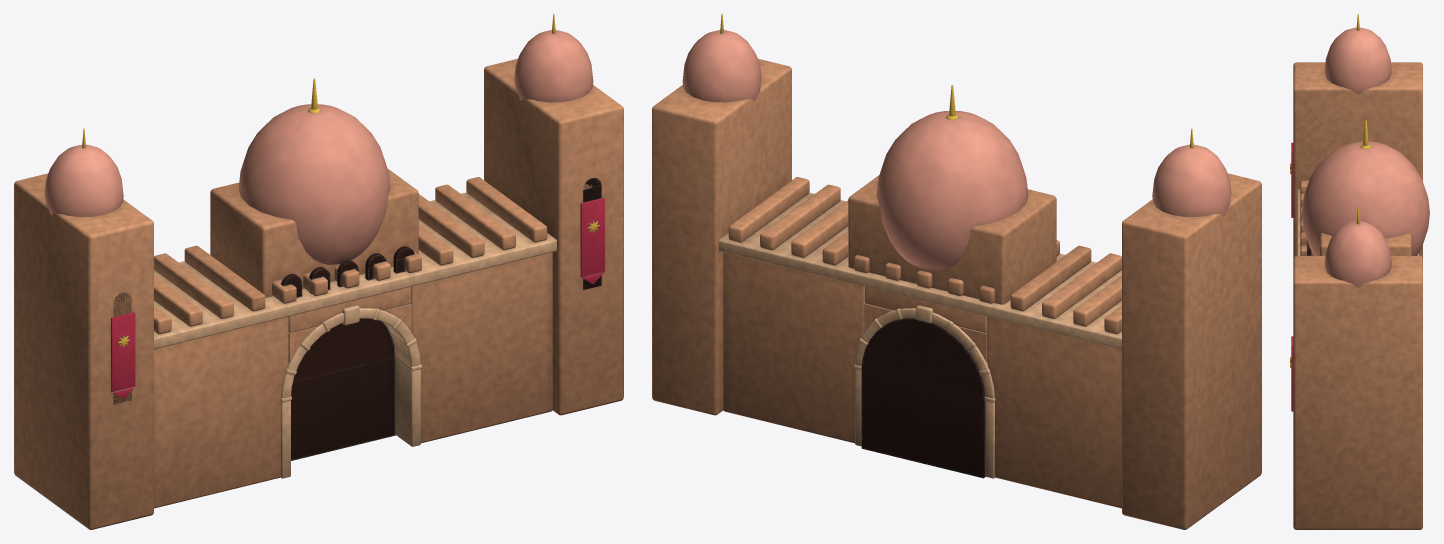
File: sd_palace.glb
3 views of the same model, side by side, from view 1: azimuth 30°, elevation 25°; view 2: azimuth 150°, elevation 25°; view 3: azimuth 270°, elevation 25° (orthographic). The views are drawn at different scales.
Parts seen in each view (by area): view 1: sd_palace; view 2: sd_palace; view 3: sd_palace.
Part boxes in pixels (left/top/right/bottom): sd_palace: left=14, top=14, right=623, bottom=529; sd_palace: left=652, top=14, right=1261, bottom=529; sd_palace: left=1290, top=14, right=1429, bottom=529.
Size of the model in its own units: 34.4 by 22.4 by 9.17.
6 materials, 6 textured.
